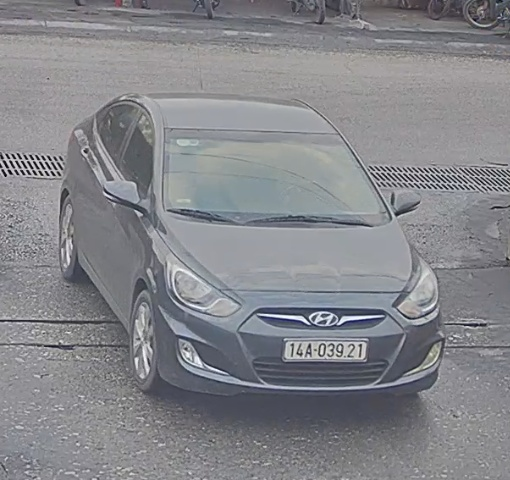vehicle plate: (276, 333, 371, 366)
